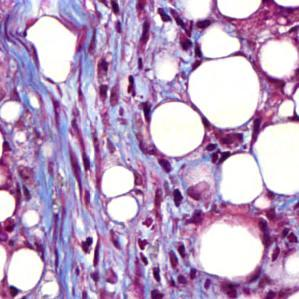steatosis: (150, 97, 208, 161), (99, 166, 136, 198)
